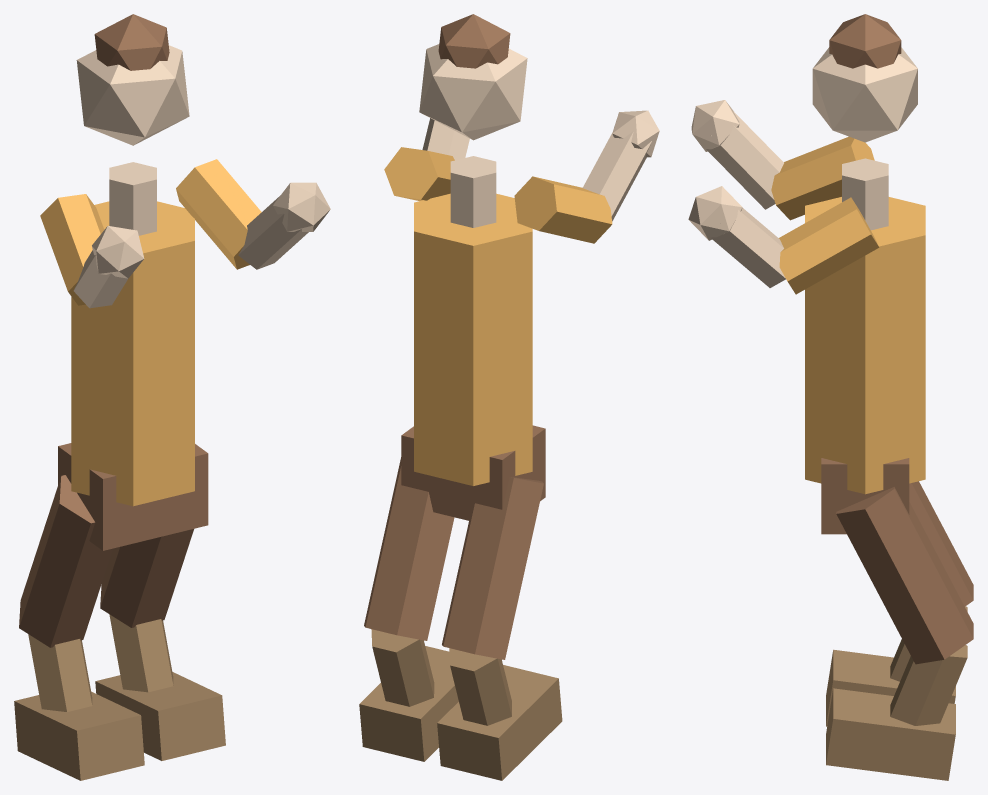
Rendered from pose_dodge_roll_04.glb.
3 renders of one model, left to right at view 1: azimuth 30°, elevation 25°; view 2: azimuth 150°, elevation 25°; view 3: azimuth 270°, elevation 25°, orthographic. The views are drawn at different scales.
Visible parts, largest first — view 1: pose; view 2: pose; view 3: pose.
Boxes of the visible parts, bbox=[...] form: pose: bbox=[14, 14, 330, 780]; pose: bbox=[359, 14, 659, 780]; pose: bbox=[688, 14, 973, 780].
Size of the model in its own units: 0.4993 by 1.57 by 0.5527.
